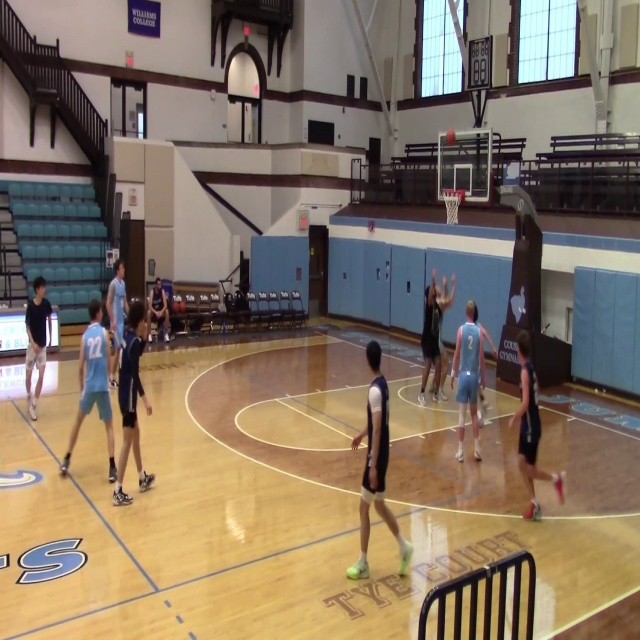Basketball: (171, 295, 185, 313), (446, 128, 455, 145)
